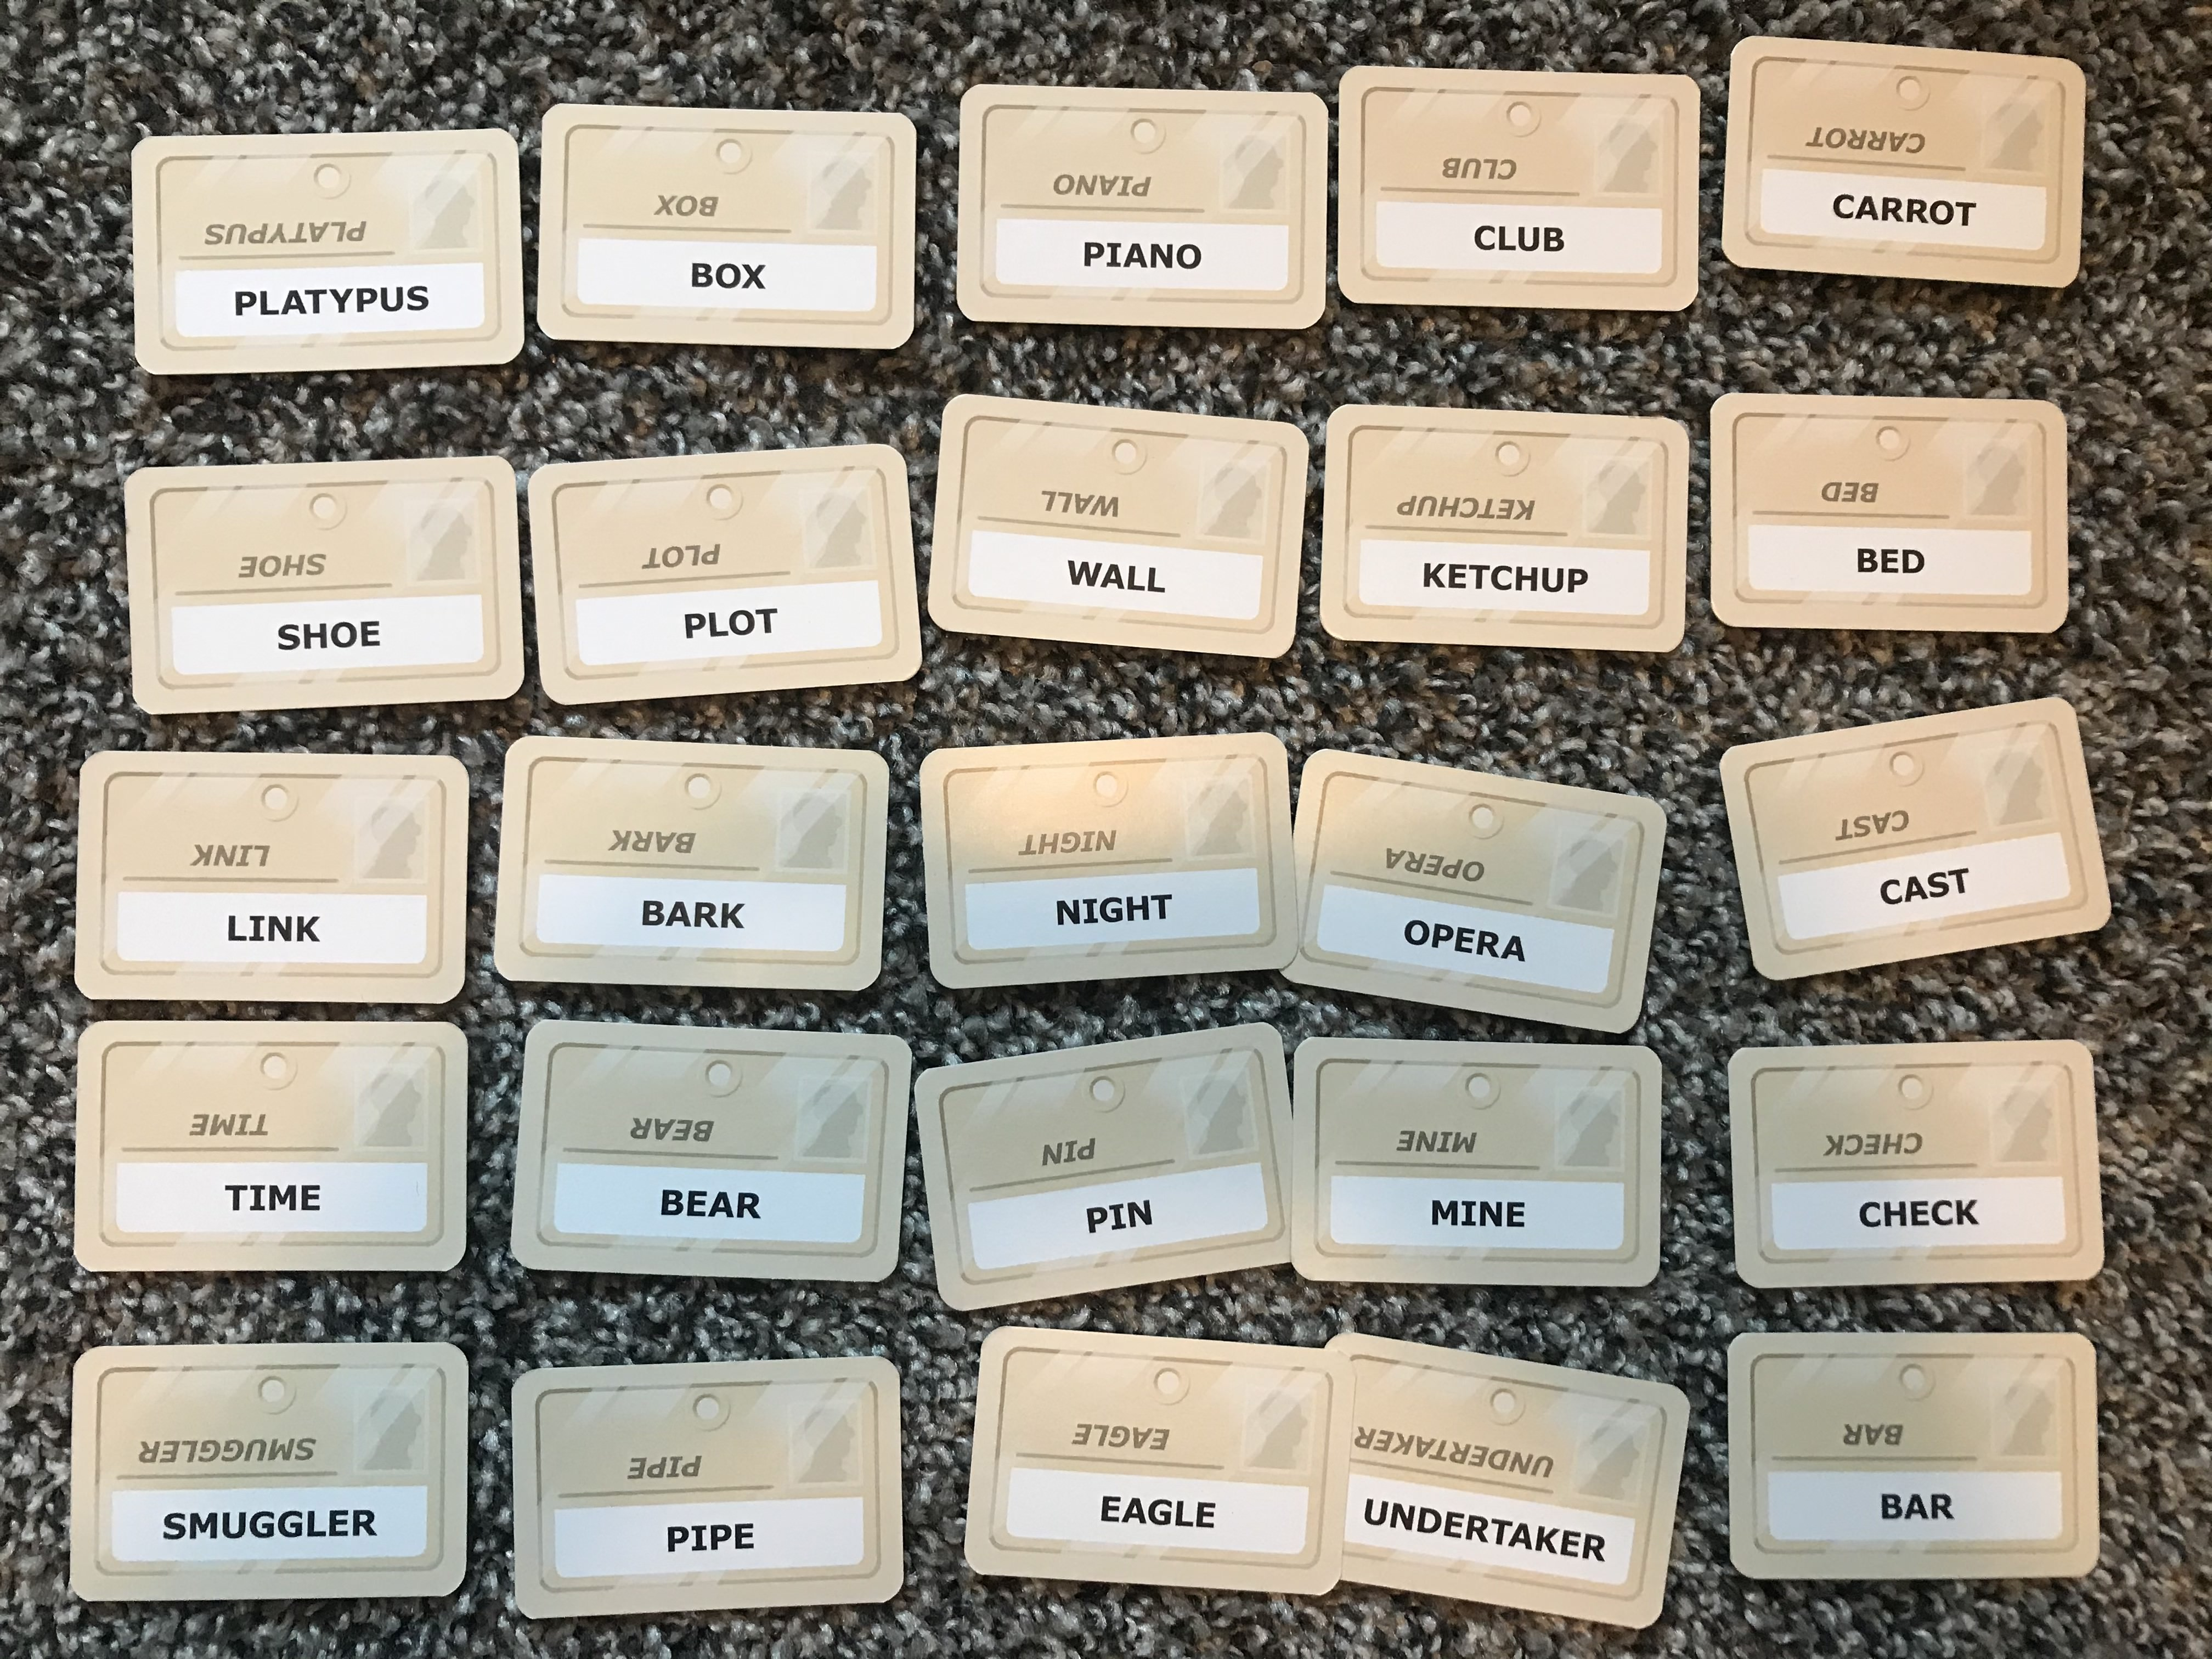A: (1120, 237, 1151, 279), (1897, 871, 1926, 913), (1904, 1488, 1930, 1535), (280, 286, 308, 328), (705, 1185, 733, 1227), (1508, 1516, 1533, 1563), (1099, 559, 1129, 598), (1853, 188, 1879, 230), (662, 897, 693, 932), (1120, 1492, 1144, 1532), (1498, 931, 1524, 967)
